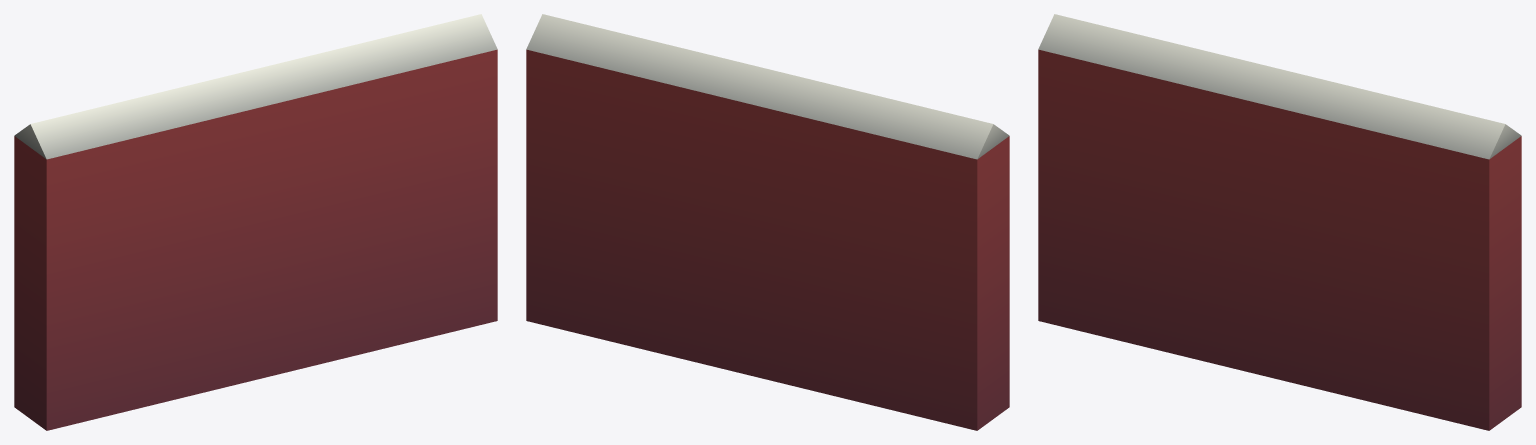
Rendered from Wall_Brick_02.fbx.
3 views of the same model, side by side, from view 1: azimuth 30°, elevation 25°; view 2: azimuth 150°, elevation 25°; view 3: azimuth 330°, elevation 25° (orthographic).
Parts seen in each view (by area): view 1: Wall_Brick_02; view 2: Wall_Brick_02; view 3: Wall_Brick_02.
Part boxes in pixels (x1,y1,x2,y2): Wall_Brick_02: (14, 14, 497, 430); Wall_Brick_02: (526, 14, 1009, 430); Wall_Brick_02: (1038, 14, 1521, 430).
Bounding box in the file's own units: 400 × 250 × 50.
